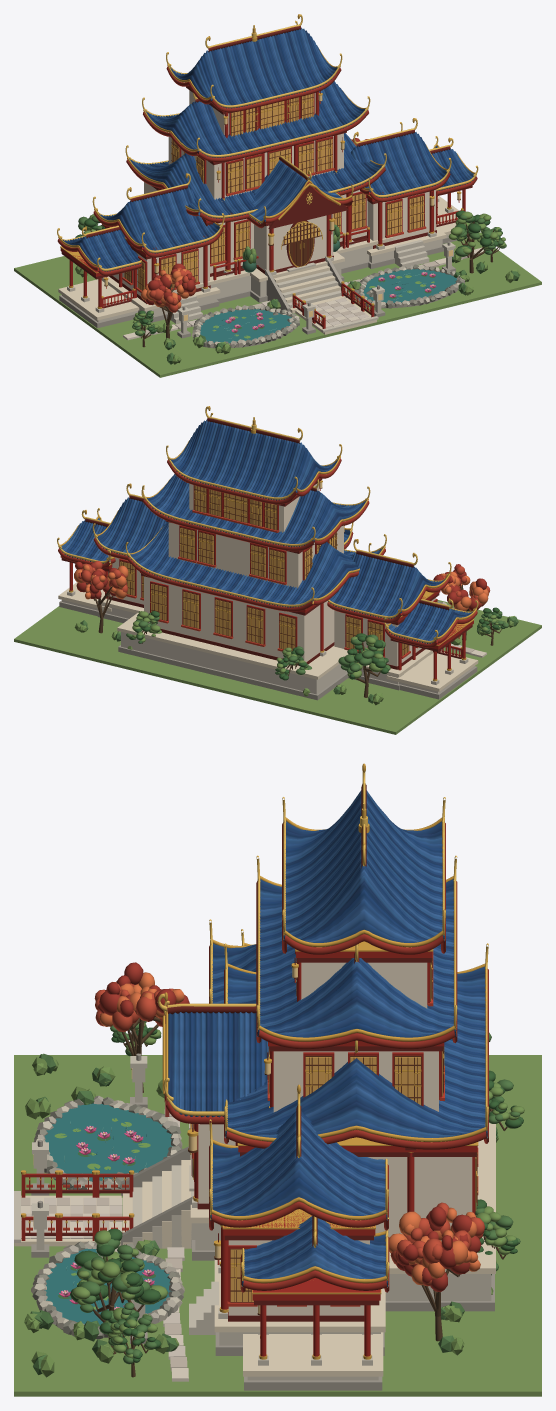
Rendered from palacio-oriental.glb.
3 renders of one model, top to bottom at view 1: azimuth 30°, elevation 25°; view 2: azimuth 150°, elevation 25°; view 3: azimuth 270°, elevation 25°, orthographic. The views are drawn at different scales.
Parts seen in each view (by area): view 1: palace-tile-roof, palace-sod-base, palace-lightStone-base, palace-sand-base, palace-redOrnament-roof, palace-plaster-body, palace-brightGold-roof, palace-red-body, palace-water-base, palace-window-roof, palace-window-body, palace-stone-base (+26 smaller); view 2: palace-tile-roof, palace-sod-base, palace-plaster-body, palace-sand-base, palace-redOrnament-roof, palace-lightStone-base, palace-brightGold-roof, palace-window-roof, palace-window-body, palace-plaster-roof, palace-stone-base, palace-red-body (+18 smaller); view 3: palace-tile-roof, palace-sod-base, palace-sand-base, palace-lightStone-base, palace-redOrnament-roof, palace-water-base, palace-plaster-body, palace-gold-roof, palace-red-body, palace-plaster-roof, palace-brightGold-roof, palace-stone-base (+24 smaller).
Part boxes in pixels (box(x1,y1,x2,y2)): palace-tile-roof: box(61, 27, 473, 268); palace-sod-base: box(14, 237, 541, 377); palace-lightStone-base: box(62, 198, 455, 333); palace-sand-base: box(58, 196, 470, 334); palace-redOrnament-roof: box(57, 66, 477, 275); palace-plaster-body: box(112, 182, 436, 295); palace-brightGold-roof: box(57, 14, 478, 271); palace-red-body: box(60, 184, 473, 307); palace-water-base: box(200, 269, 456, 343); palace-window-roof: box(171, 93, 332, 193); palace-window-body: box(124, 193, 423, 290); palace-stone-base: box(59, 236, 469, 348); palace-tile-roof: box(61, 419, 472, 640); palace-sod-base: box(14, 600, 541, 734); palace-plaster-body: box(108, 555, 436, 666); palace-sand-base: box(58, 582, 478, 691); palace-redOrnament-roof: box(58, 458, 477, 647); palace-lightStone-base: box(62, 590, 474, 694); palace-brightGold-roof: box(57, 406, 478, 643); palace-window-roof: box(180, 485, 336, 582); palace-window-body: box(120, 561, 437, 655); palace-plaster-roof: box(168, 483, 343, 588); palace-stone-base: box(59, 600, 477, 700); palace-red-body: box(60, 555, 473, 679); palace-tile-roof: box(168, 790, 485, 1278); palace-sod-base: box(14, 1055, 541, 1396); palace-sand-base: box(14, 1111, 495, 1376); palace-lightStone-base: box(14, 1056, 491, 1380); palace-redOrnament-roof: box(164, 822, 488, 1292); palace-water-base: box(44, 1103, 172, 1324); palace-plaster-body: box(198, 1124, 472, 1315); palace-gold-roof: box(162, 763, 486, 1283); palace-red-body: box(194, 1124, 477, 1356); palace-plaster-roof: box(273, 962, 438, 1112); palace-brightGold-roof: box(157, 772, 488, 1282); palace-stone-base: box(31, 1053, 494, 1390).
Size of the model in its own units: 35.6 by 20.98 by 23.6.
